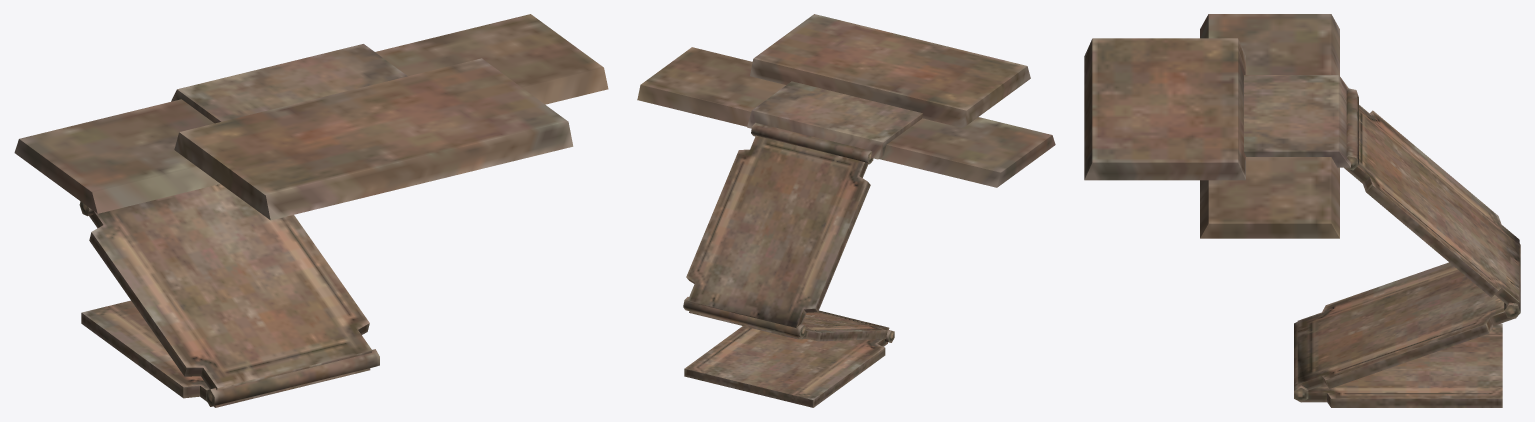
File: frn_all_lamp_tbl_s1_l0.fbx
3 views of the same model, side by side, from view 1: azimuth 30°, elevation 25°; view 2: azimuth 150°, elevation 25°; view 3: azimuth 270°, elevation 25° (orthographic). The views are drawn at different scales.
Visible parts, largest first — view 1: mesh_node; view 2: mesh_node; view 3: mesh_node.
Part boxes in pixels (x1,y1,x2,y2): mesh_node: [14, 14, 608, 407]; mesh_node: [637, 14, 1055, 407]; mesh_node: [1084, 14, 1520, 407].
Bounding box in the file's own units: 0.7096 × 0.4258 × 0.6238.
